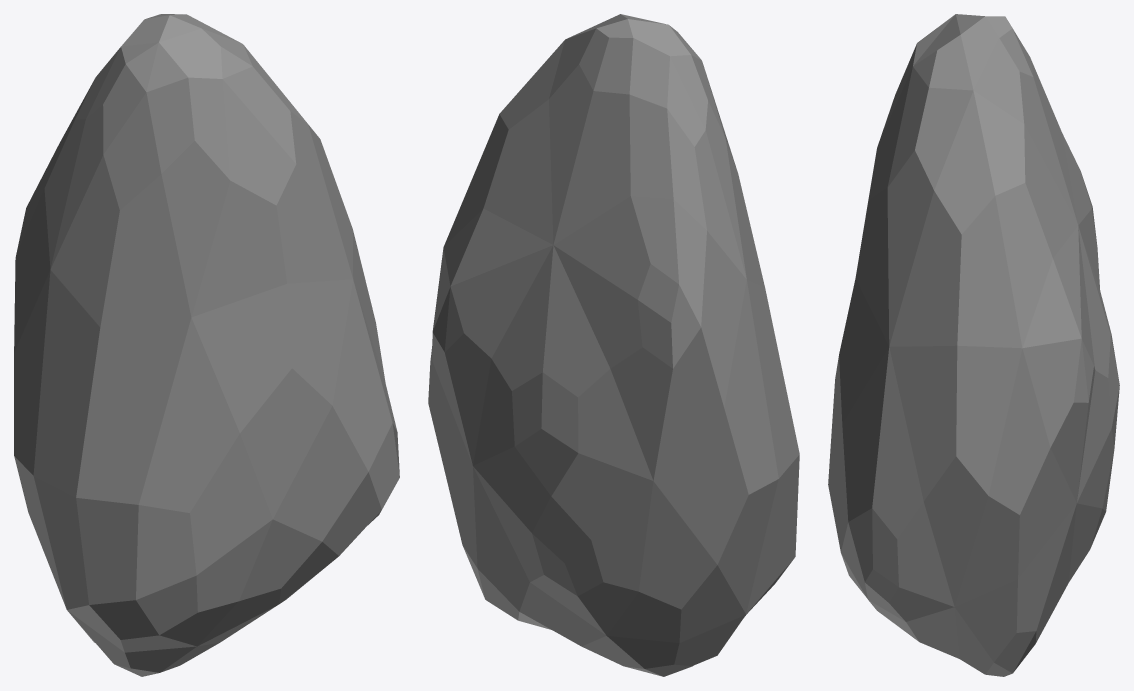
File: Rock_2.fbx
3 views of the same model, side by side, from view 1: azimuth 30°, elevation 25°; view 2: azimuth 150°, elevation 25°; view 3: azimuth 270°, elevation 25° (orthographic).
Visible parts, largest first — view 1: Rock_2; view 2: Rock_2; view 3: Rock_2.
Part boxes in pixels (x1,y1,x2,y2): Rock_2: [14, 14, 399, 676]; Rock_2: [428, 14, 799, 676]; Rock_2: [828, 14, 1119, 676].
Bounding box in the file's own units: 302 × 550 × 227.
